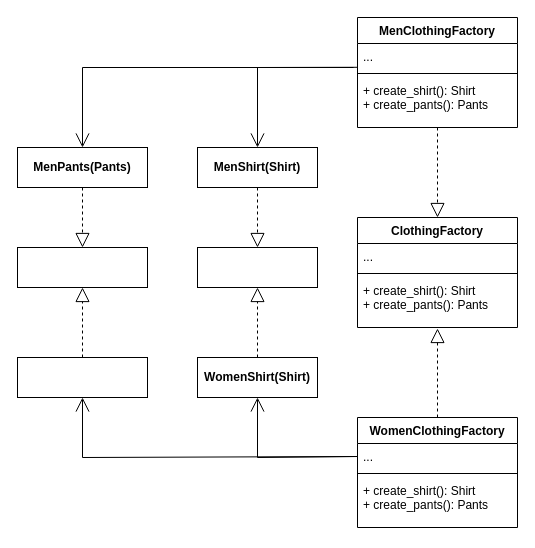
Some shapes in this 535 by 548 pixel diagram are drawn without their labels. The shapes that lost their labels are listed below. From the top down, each one's centre as x and y in pixels, then its label:
At point (82, 267): "Pants".
At point (257, 267): "Shirt".
At point (82, 377): "WomenPants(Pants )".
